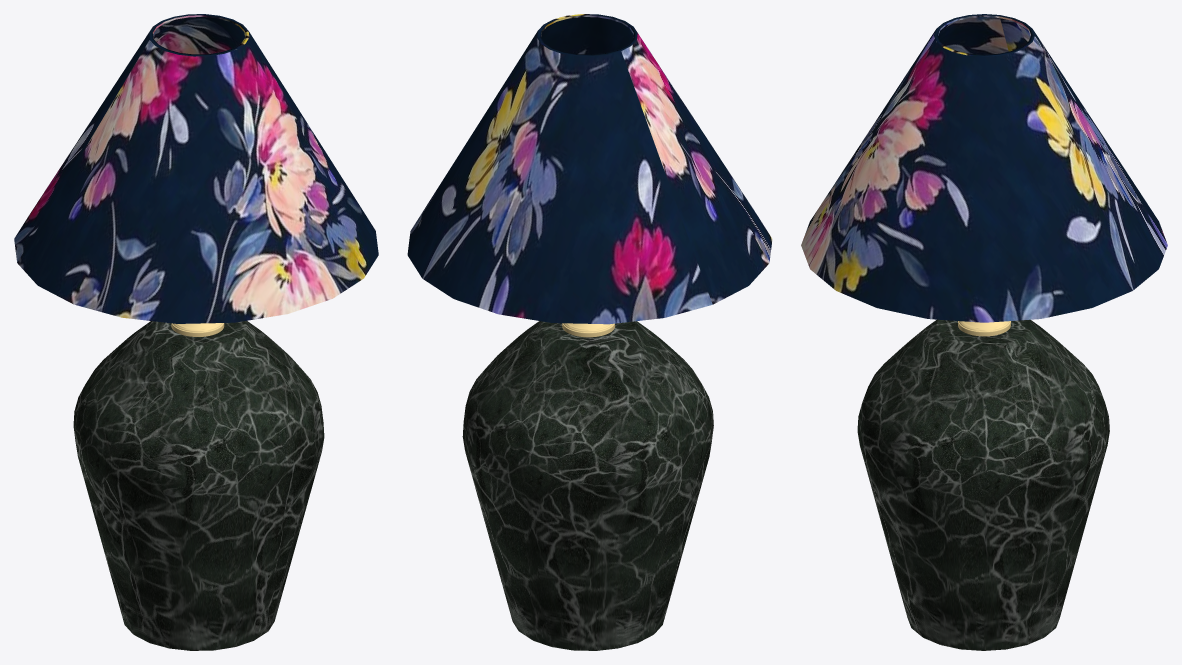
The model's file is lamp-marble-base-free.glb.
3 views of the same model, side by side, from view 1: azimuth 30°, elevation 25°; view 2: azimuth 150°, elevation 25°; view 3: azimuth 270°, elevation 25° (orthographic).
Parts seen in each view (by area): view 1: pCylinder26, pCylinder24, pCylinder30; view 2: pCylinder26, pCylinder24, pCylinder30; view 3: pCylinder26, pCylinder24, pCylinder30.
Part boxes in pixels (x1,y1,x2,y2): pCylinder26: [14, 14, 378, 323]; pCylinder24: [73, 320, 324, 650]; pCylinder30: [171, 323, 224, 336]; pCylinder26: [407, 14, 772, 324]; pCylinder24: [462, 321, 713, 650]; pCylinder30: [562, 323, 615, 337]; pCylinder26: [801, 14, 1167, 322]; pCylinder24: [857, 319, 1109, 650]; pCylinder30: [958, 321, 1010, 336].
Size of the model in its own units: 1.91 by 3.35 by 1.91.
Materials: 9 (2 with a texture image).
